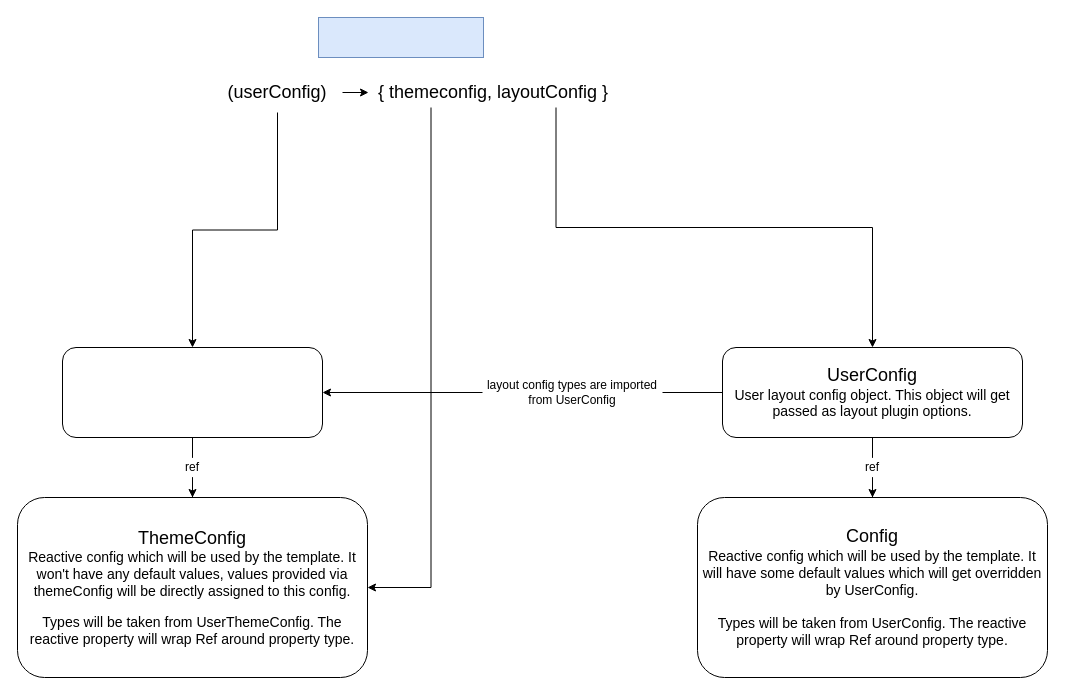
Some shapes in this 1065 by 695 pixel diagram are drawn without their labels. The shapes that lost their labels are listed below. From the top down, each one's centre as x and y in pixels, then its label:
the point at 401,37: defineConfig
the point at 192,392: UserThemeConfig User theme config object. This will be used as themeConfig type.
